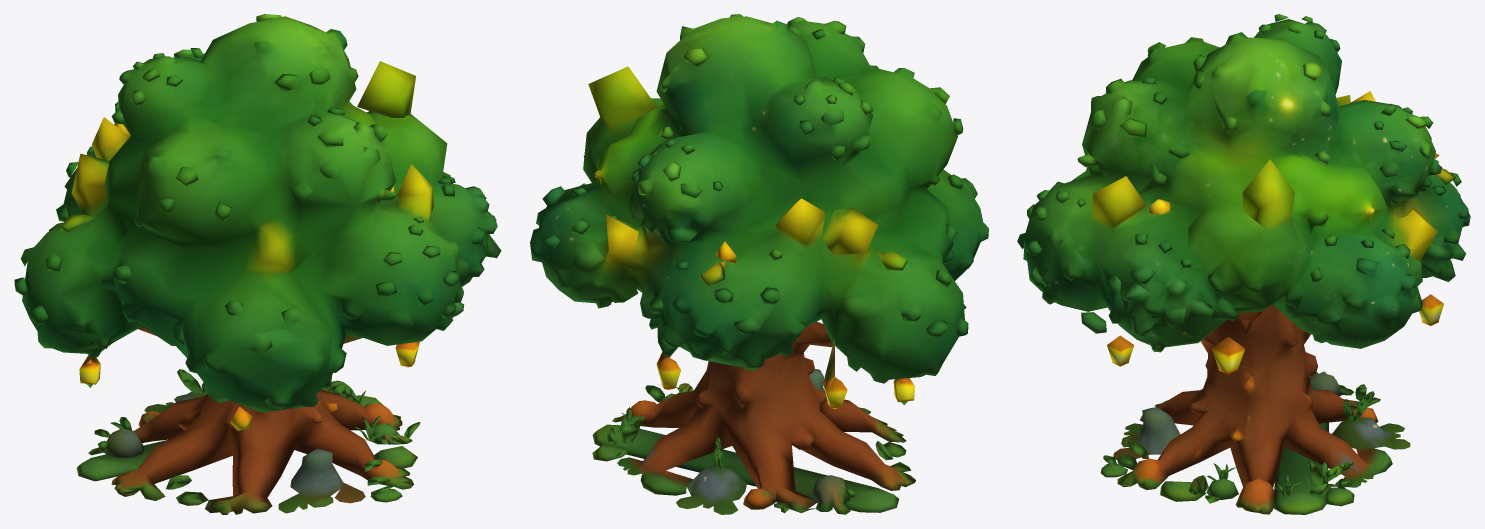
File: prop-tree.glb
3 renders of one model, left to right at view 1: azimuth 30°, elevation 25°; view 2: azimuth 150°, elevation 25°; view 3: azimuth 270°, elevation 25°, orthographic. The views are drawn at different scales.
Visible parts, largest first — view 1: tripo_node_56215fed-a3ef-47fa-850a-cb8bf0ba1676; view 2: tripo_node_56215fed-a3ef-47fa-850a-cb8bf0ba1676; view 3: tripo_node_56215fed-a3ef-47fa-850a-cb8bf0ba1676.
Part boxes in pixels (x1,y1,x2,y2): tripo_node_56215fed-a3ef-47fa-850a-cb8bf0ba1676: [14, 14, 501, 514]; tripo_node_56215fed-a3ef-47fa-850a-cb8bf0ba1676: [530, 14, 988, 514]; tripo_node_56215fed-a3ef-47fa-850a-cb8bf0ba1676: [1017, 14, 1470, 514].
Bounding box in the file's own units: 0.9941 × 0.998 × 0.998.
1 material, 1 textured.
